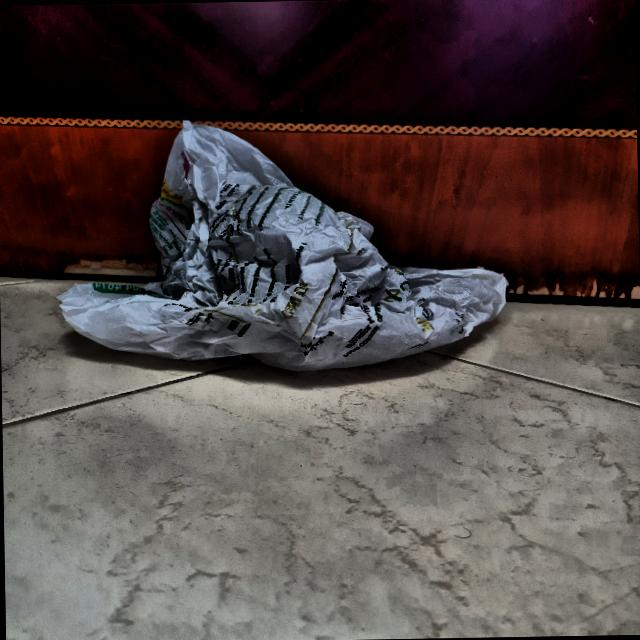plastic bag: (44, 98, 522, 386)
